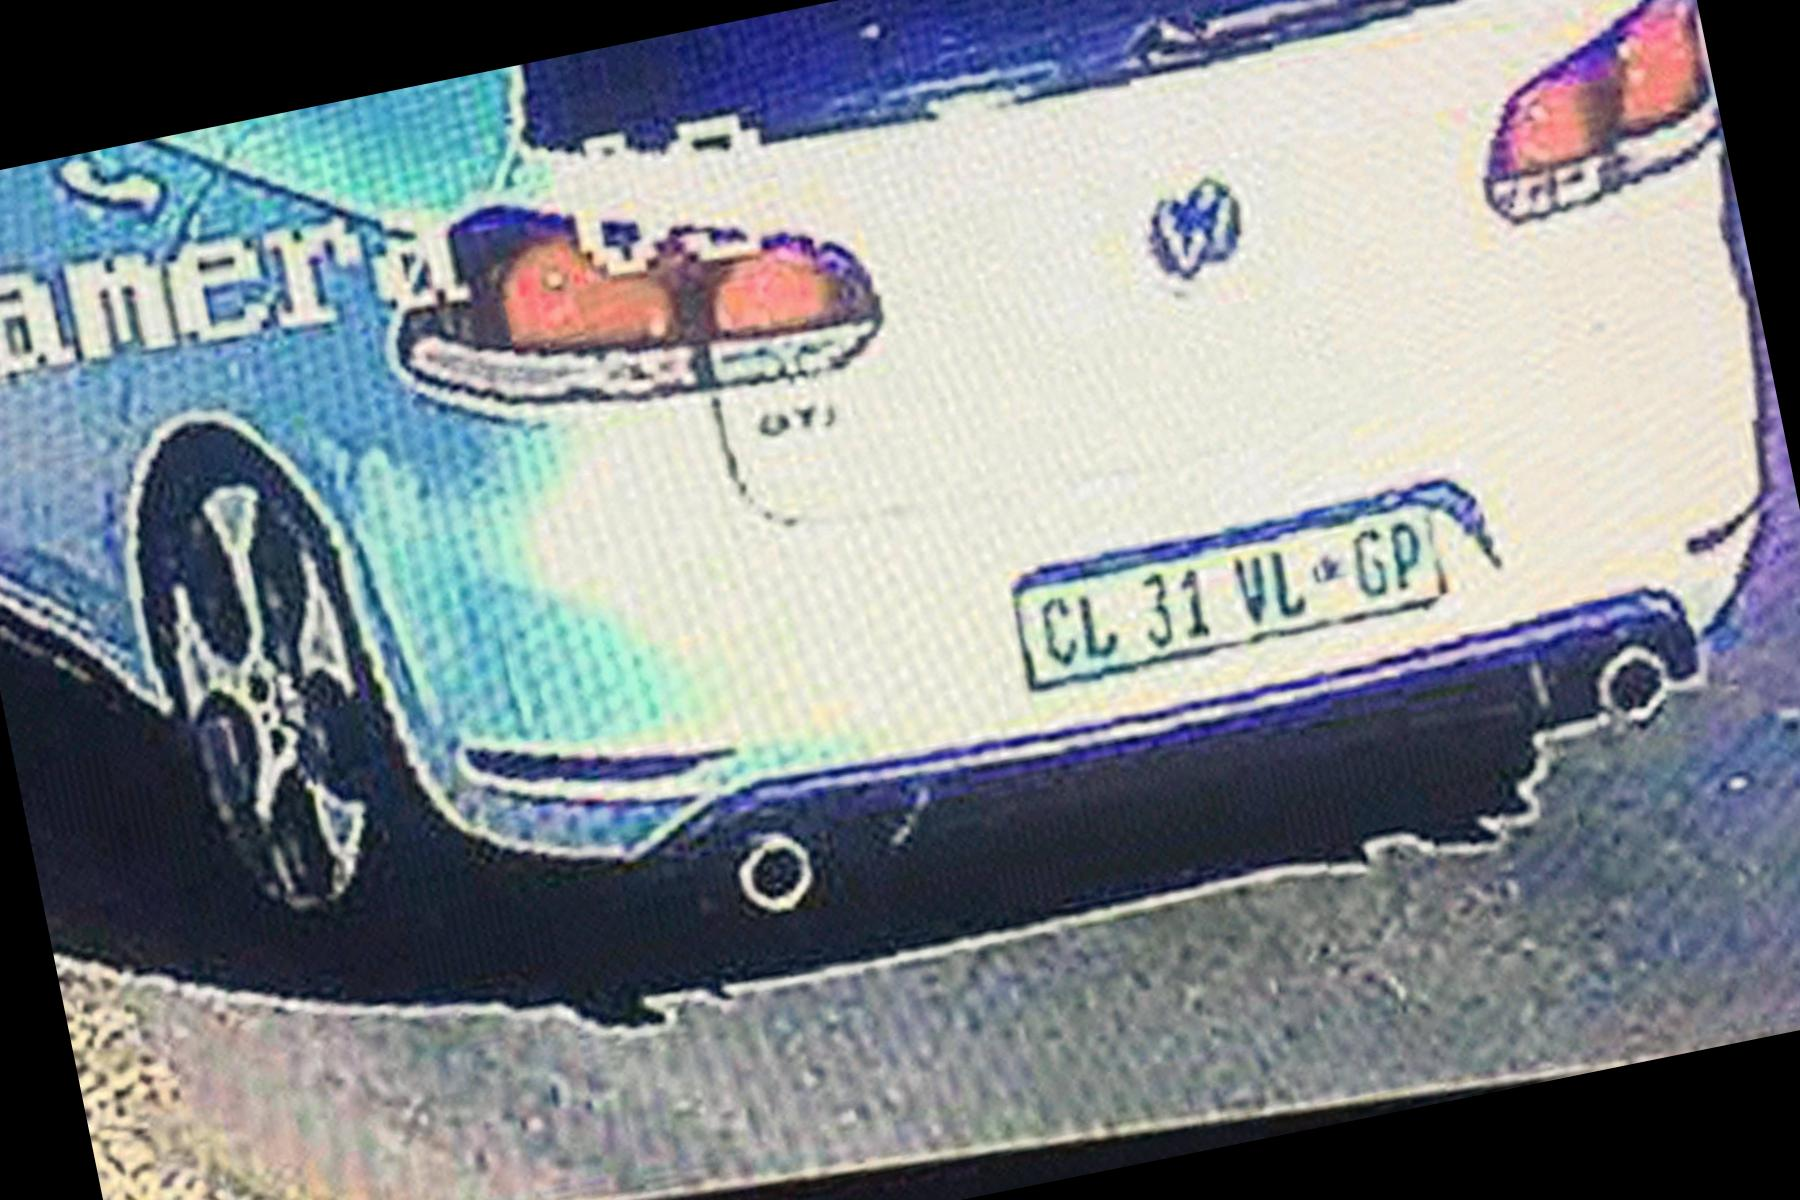plate: (1001, 466, 1443, 720)
